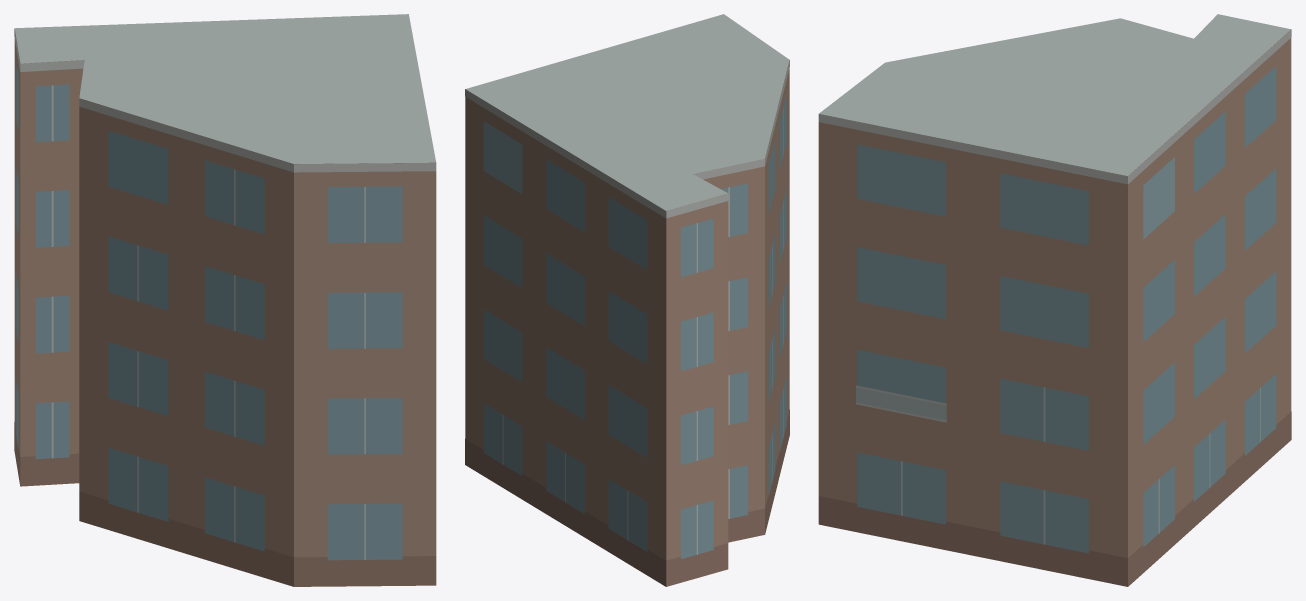
The model's file is survey-upis-32649059.glb.
3 renders of one model, left to right at view 1: azimuth 30°, elevation 25°; view 2: azimuth 150°, elevation 25°; view 3: azimuth 270°, elevation 25°, orthographic. The views are drawn at different scales.
Visible parts, largest first — view 1: survey-upis-32649059.tmp; view 2: survey-upis-32649059.tmp; view 3: survey-upis-32649059.tmp.
Part boxes in pixels (x1,y1,x2,y2): survey-upis-32649059.tmp: (14,14,436,586); survey-upis-32649059.tmp: (465,14,789,586); survey-upis-32649059.tmp: (818,14,1291,586).
Size of the model in its own units: 10.34 by 12.2 by 12.74.
